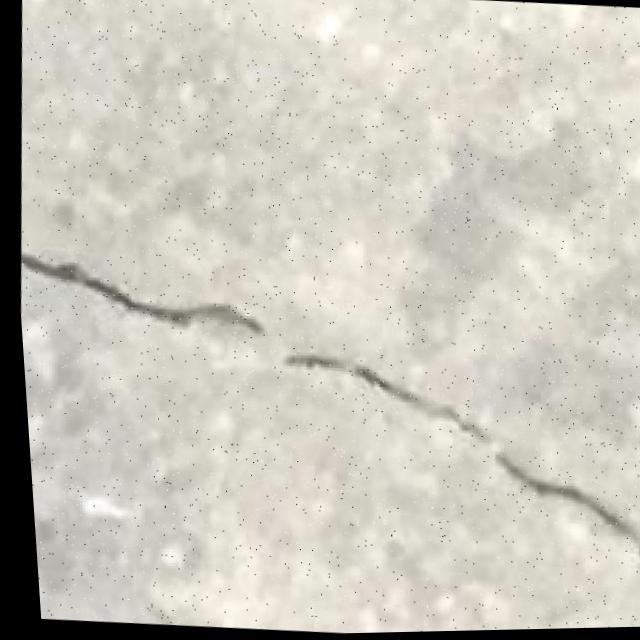Crack: (13, 232, 640, 602)
